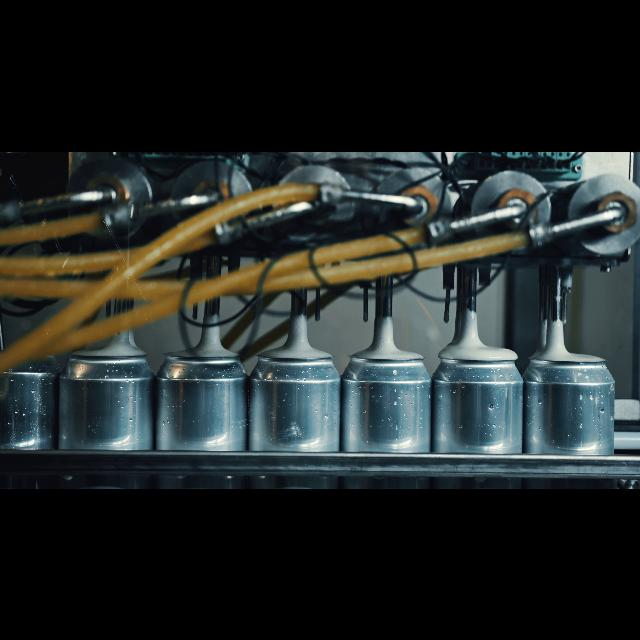empty: (0, 346, 50, 488)
full: (428, 330, 522, 488), (62, 334, 152, 488), (252, 332, 338, 488), (532, 339, 610, 488), (168, 336, 242, 488), (348, 336, 420, 488)
